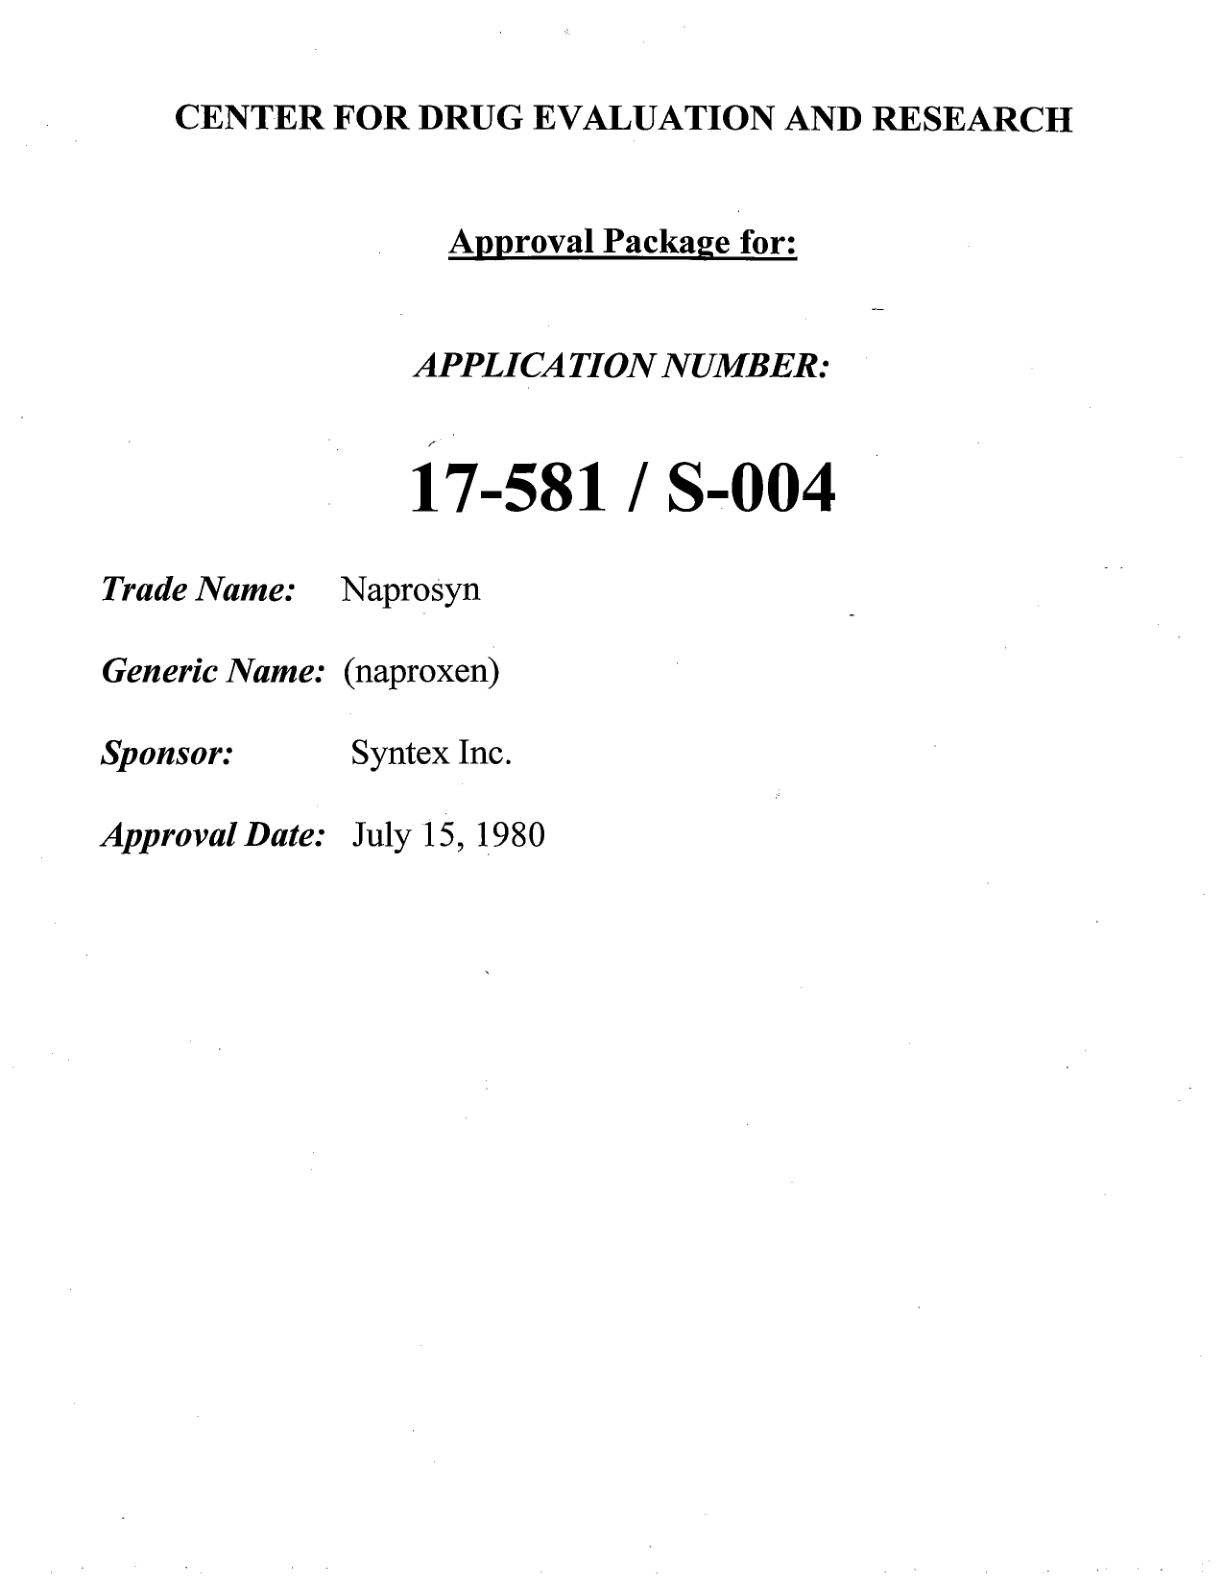nolines: (96, 570, 549, 854)
